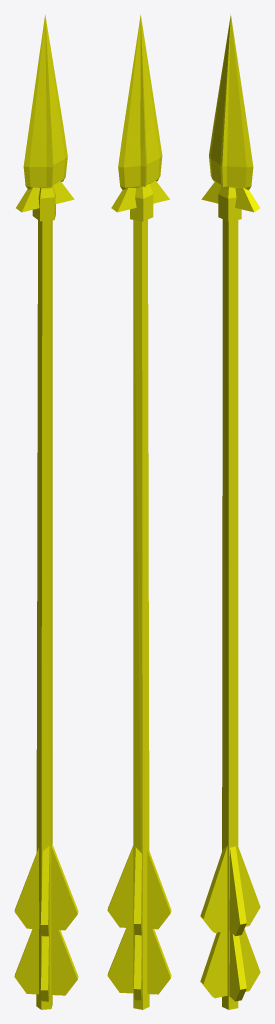
File: _arrow_c_15.glb
The picture shows the model from 3 angles, left to right: view 1: azimuth 30°, elevation 25°; view 2: azimuth 210°, elevation 25°; view 3: azimuth 330°, elevation 25°; orthographic projection.
Visible parts, largest first — view 1: arrow_c_15; view 2: arrow_c_15; view 3: arrow_c_15.
Part boxes in pixels (x1,y1,x2,y2): arrow_c_15: [14, 14, 78, 1009]; arrow_c_15: [107, 14, 171, 1009]; arrow_c_15: [200, 14, 260, 1009].
Size of the model in its own units: 0.0372 by 0.6656 by 0.0347.
1 material, 1 textured.
